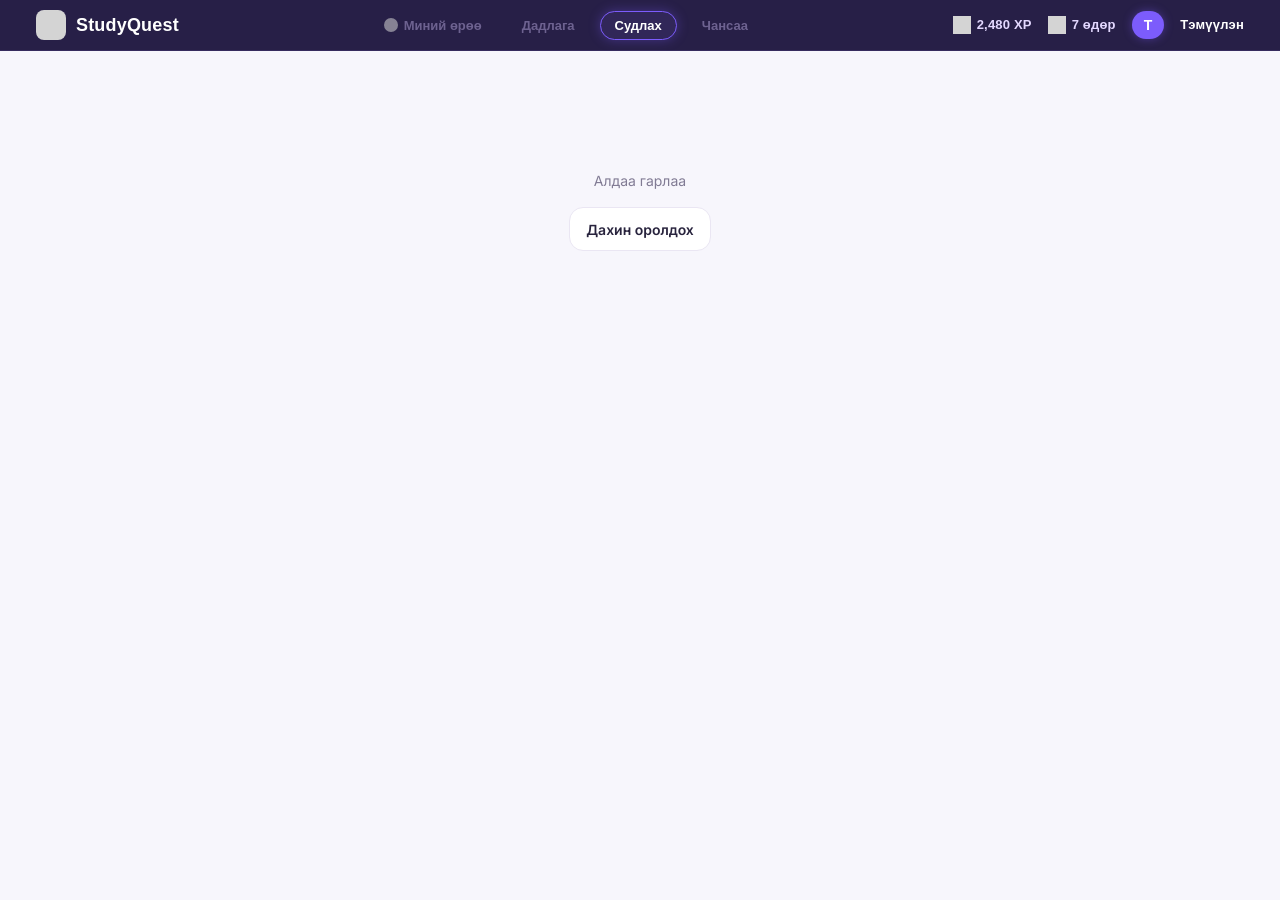
Test case: LectureDetail › shows state-error when loading fails and recovers on retry
Step 1. Click the button "Дахин оролдох" → click(640, 229), box [569,207,711,251]
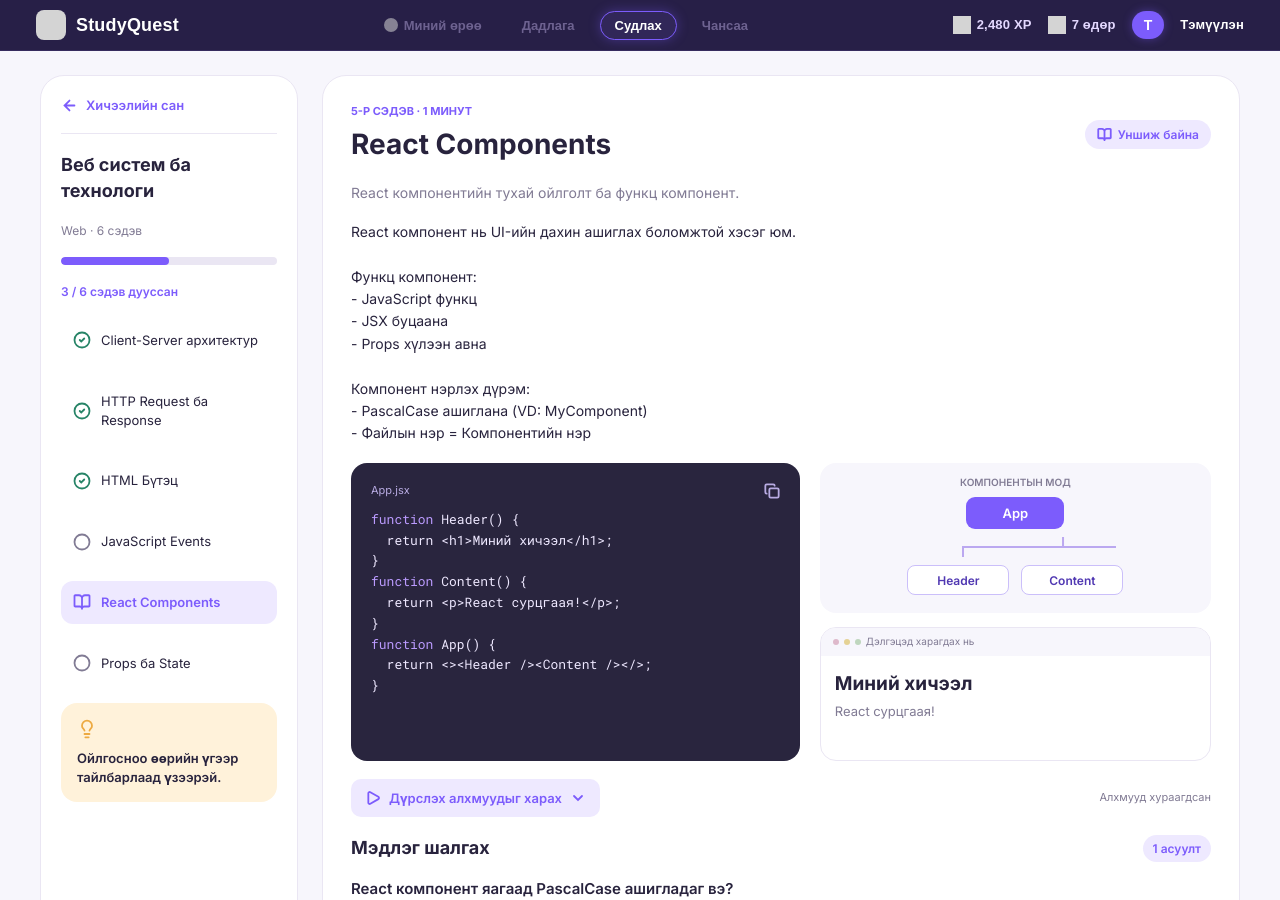
Check: the heading "React Components" is shown, box [351,124,611,164]
